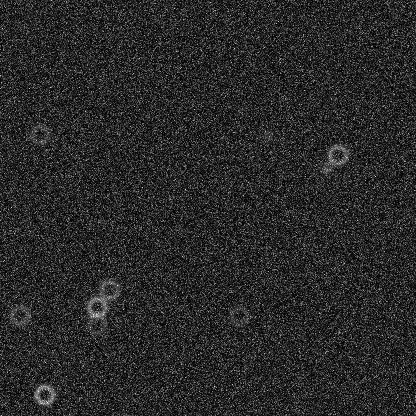Ring: (84, 294, 108, 318), (32, 382, 56, 406), (7, 303, 31, 327), (97, 277, 121, 301), (325, 142, 349, 166), (84, 312, 108, 336), (227, 304, 251, 328), (27, 122, 51, 146)
Spot: (318, 160, 334, 176), (259, 127, 275, 143)
